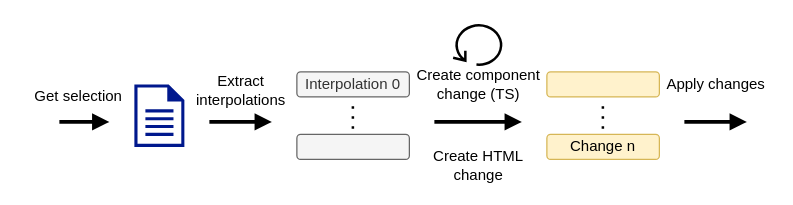
Image size: 793x205. Some labels were removed from this diagram. Each missing label, with the box of its shape:
Change 0: (546, 71, 659, 97)
Interpolation n: (296, 133, 409, 159)
